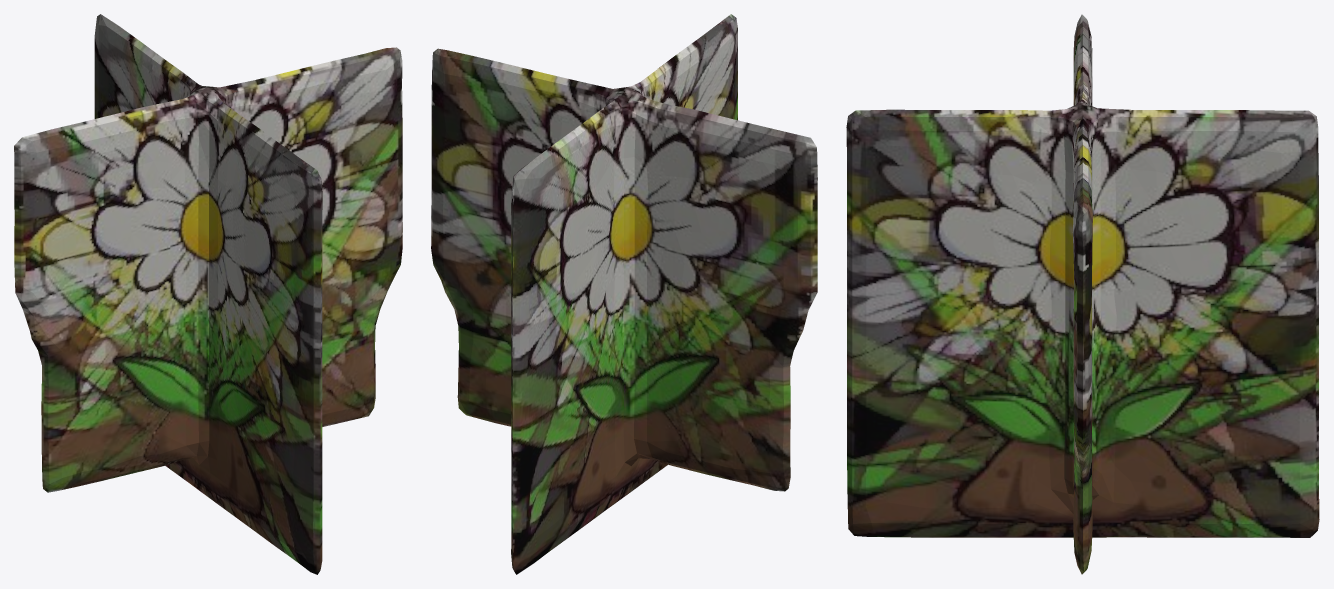
File: papatya.glb
3 renders of one model, left to right at view 1: azimuth 30°, elevation 25°; view 2: azimuth 150°, elevation 25°; view 3: azimuth 270°, elevation 25°, orthographic. The views are drawn at different scales.
Parts seen in each view (by area): view 1: geometry_0; view 2: geometry_0; view 3: geometry_0.
Boxes of the visible parts, x1,y1,x2,y2 form: geometry_0: [14, 14, 402, 574]; geometry_0: [431, 14, 817, 574]; geometry_0: [846, 14, 1319, 574].
Bounding box in the file's own units: 1.01 × 1.02 × 1.01.
Materials: 1 (1 with a texture image).
